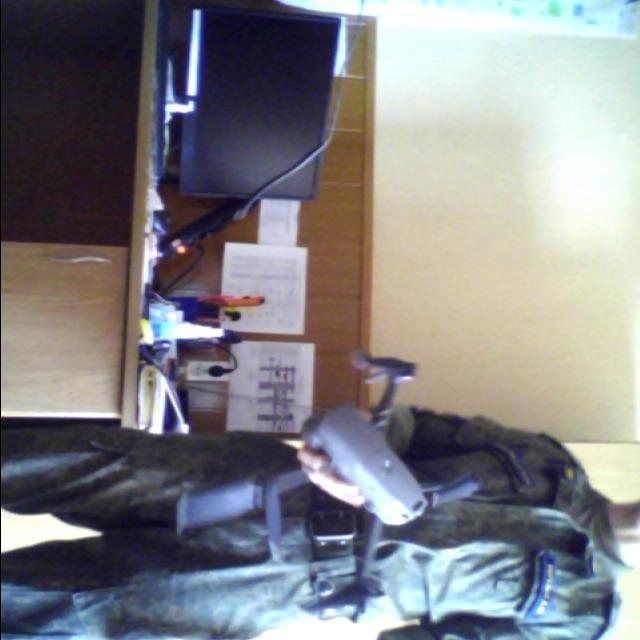drone: (214, 348, 493, 635)
